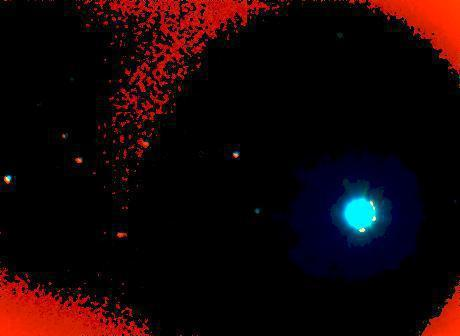star: (347, 217, 377, 247)
